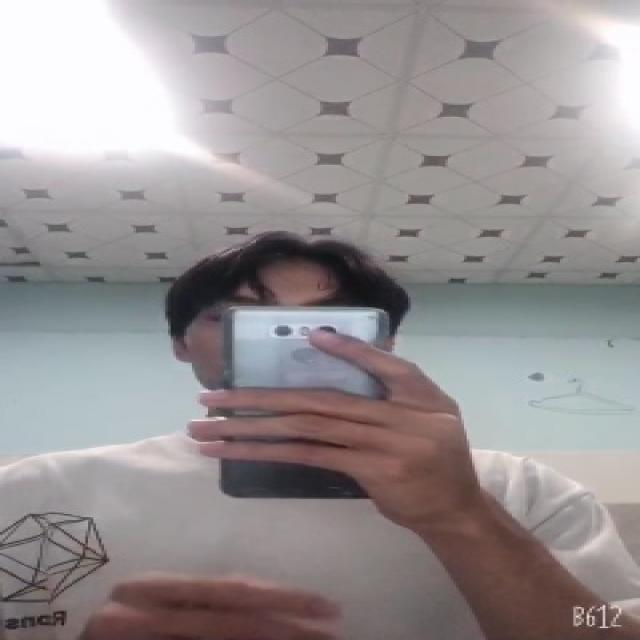Phone: (220, 302, 393, 502)
